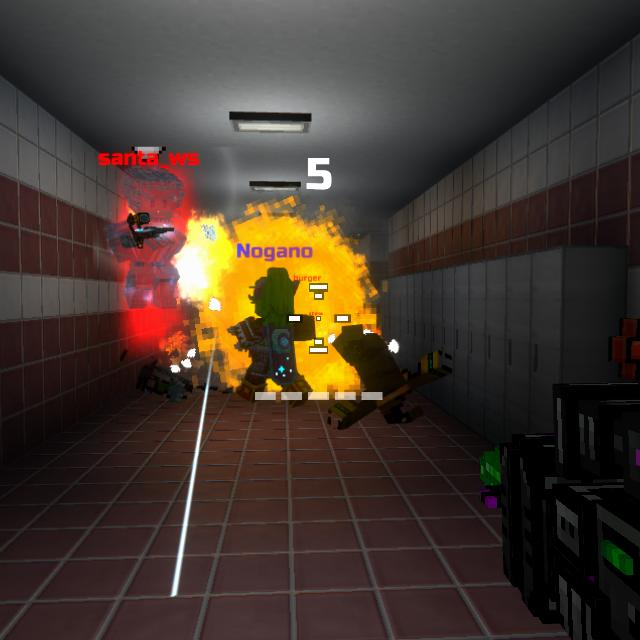Enemy: (104, 165, 187, 309)
